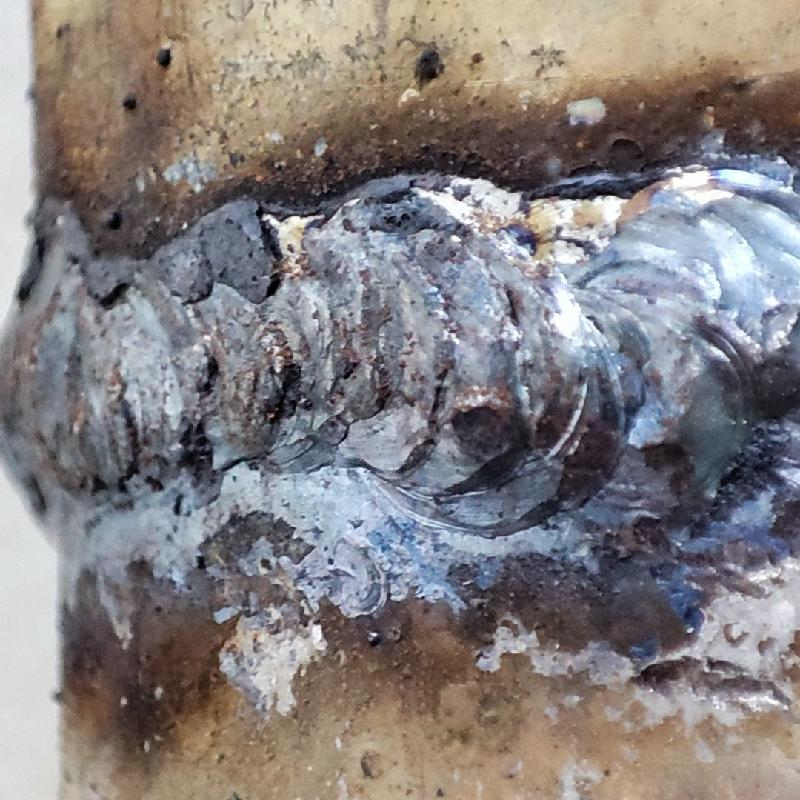good: (0, 190, 799, 545)
